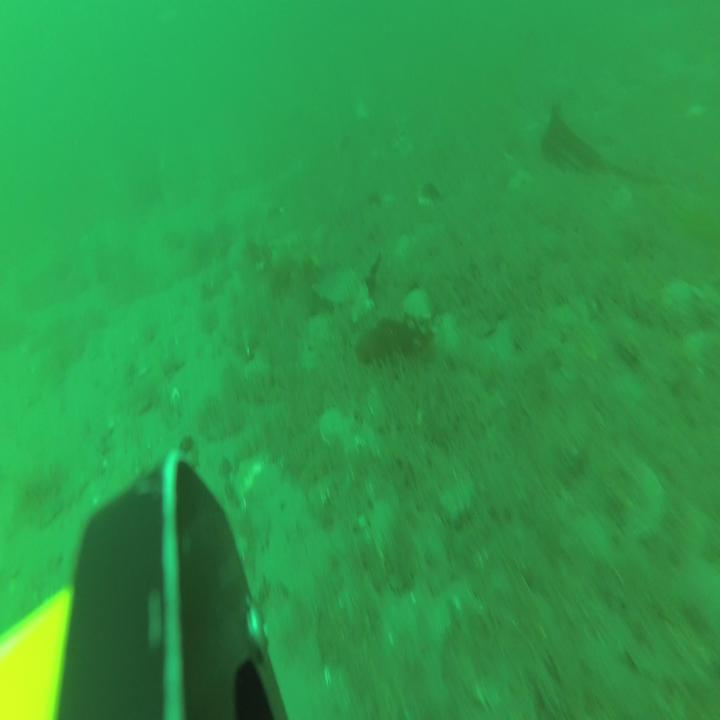scallop: (614, 459, 662, 538), (230, 455, 276, 513), (321, 407, 355, 453), (347, 282, 372, 323), (406, 289, 437, 322)
